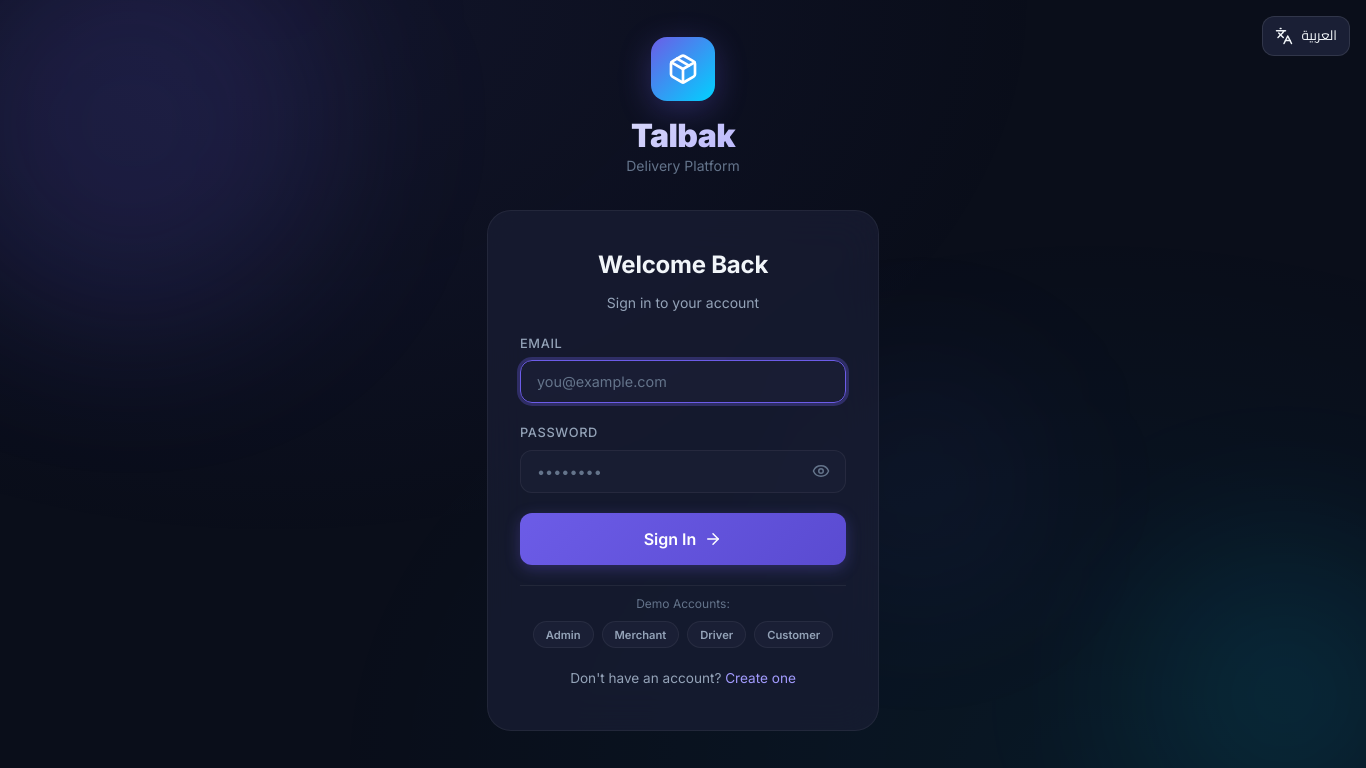
it: Login with the real AuthContext › shows API failure without losing the form
The width and height of the screenshot is (1366, 768).
Step 1. Type "customer@example.test" into the field labelled "Email" → [683, 382], box [520,360,846,403]
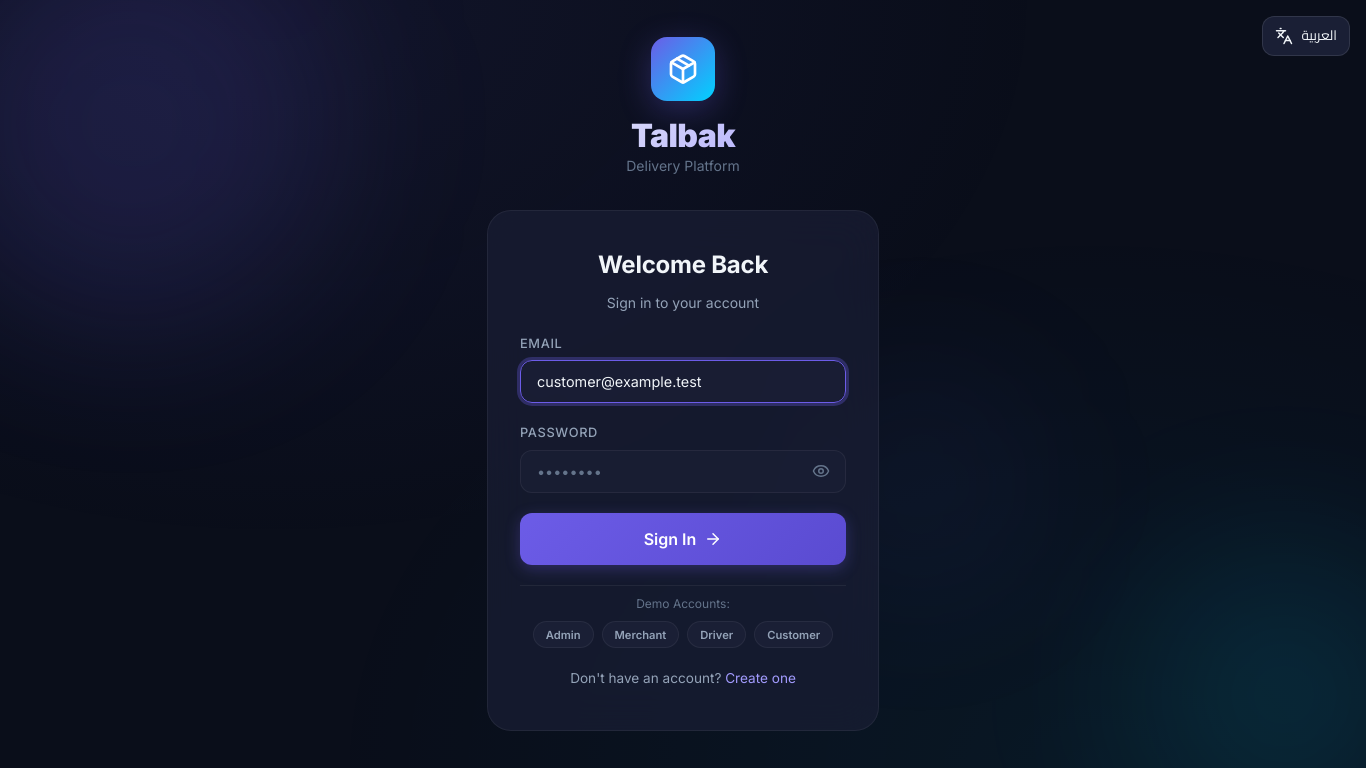
Step 2. Type "Example123!" into the password field labelled "Password" → [683, 471], box [520,450,846,493]
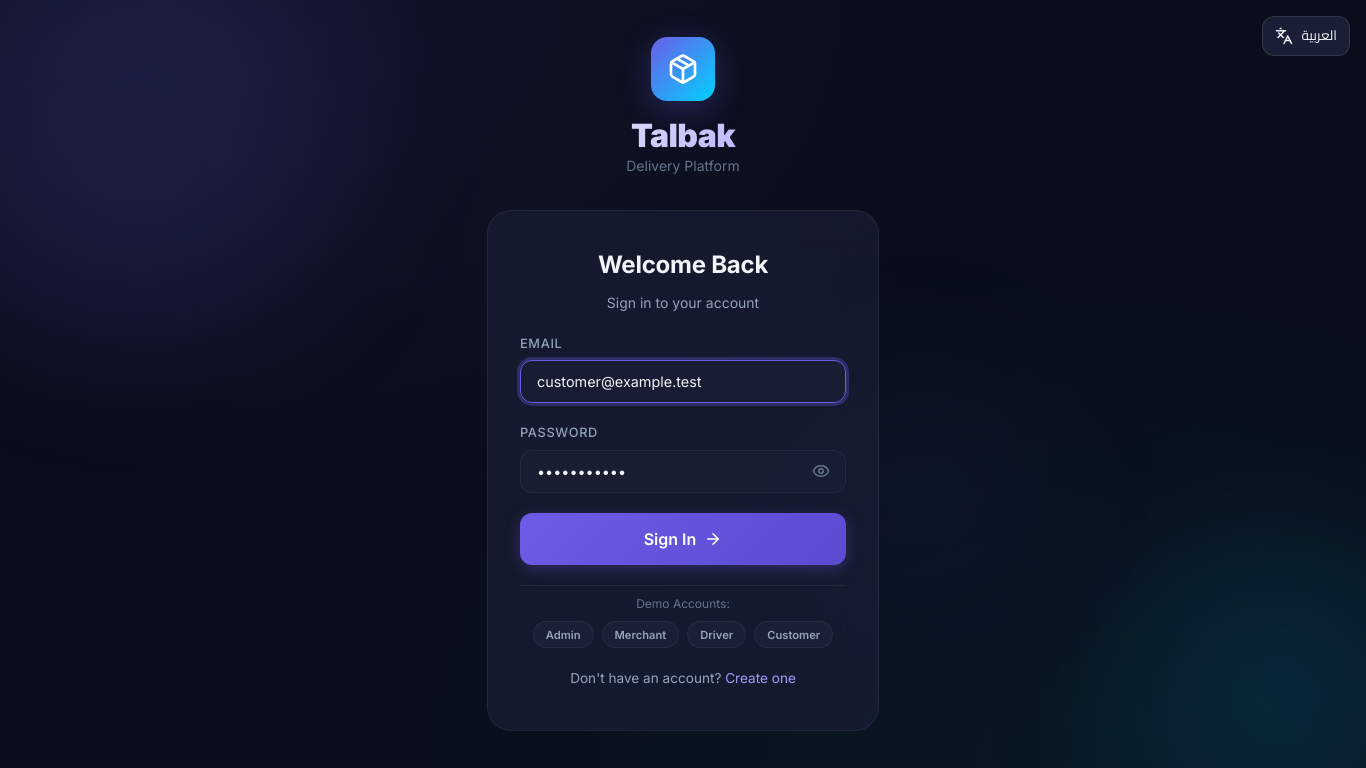
Step 3. Click the button "Sign In" → [683, 539], box [520,513,846,565]
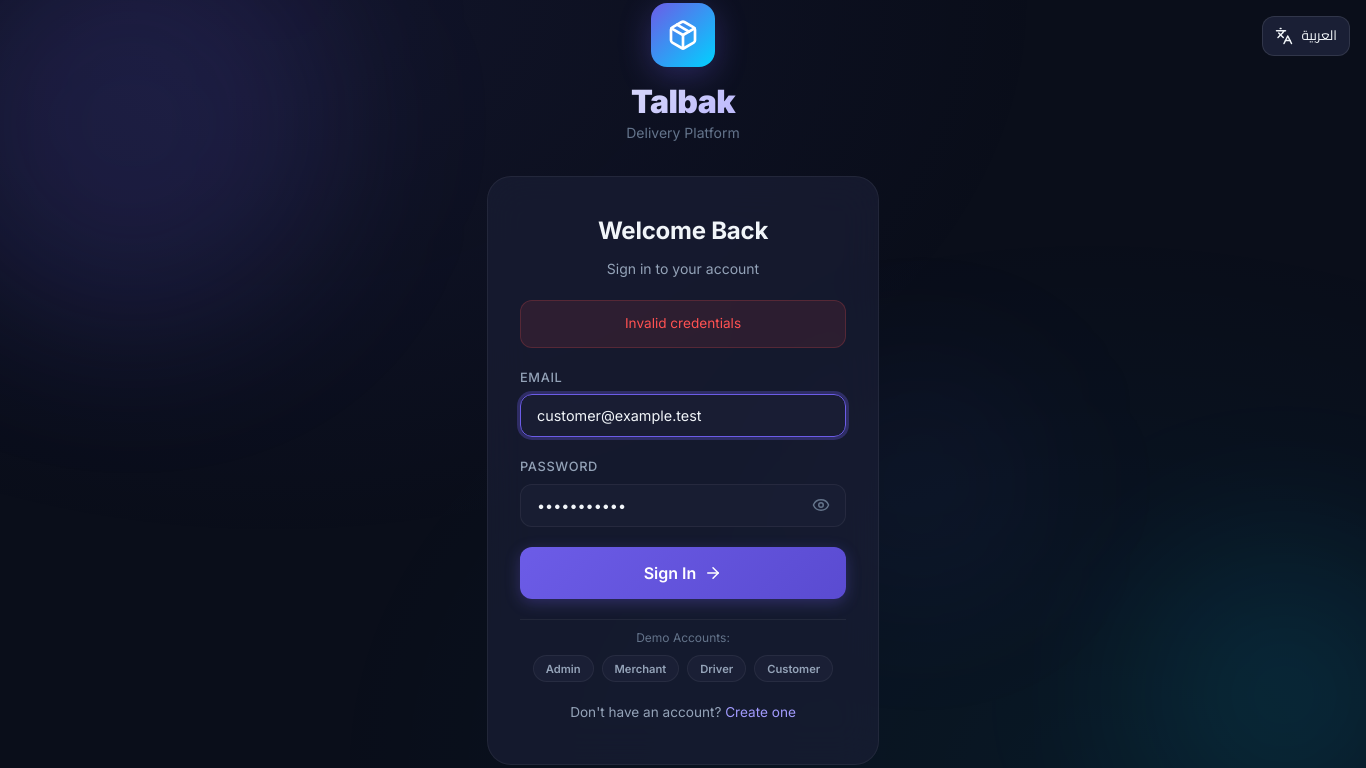
expect the button "Sign In" is enabled: met, box [520,547,846,599]
expect the message reads "Invalid credentials": met, box [625,315,741,331]
